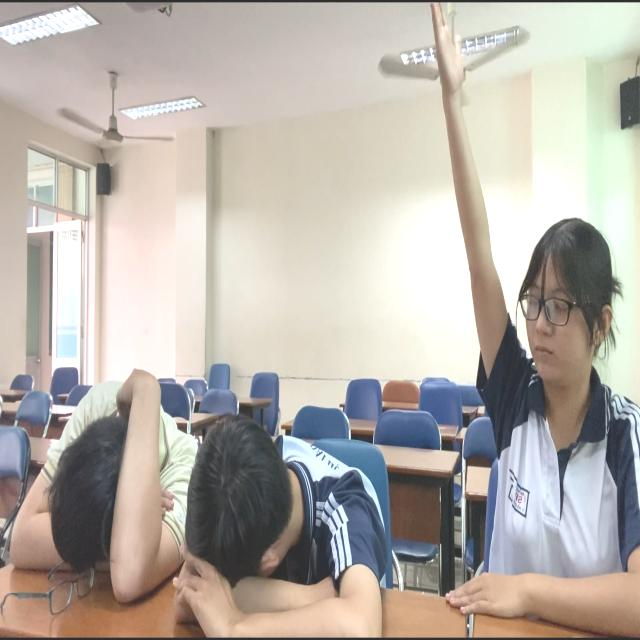raise_hand: (425, 5, 640, 640)
sleep: (142, 420, 407, 640)
